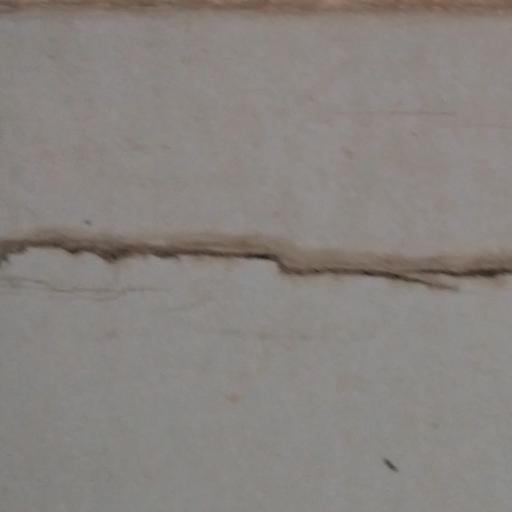major_crack: (0, 198, 512, 306)
